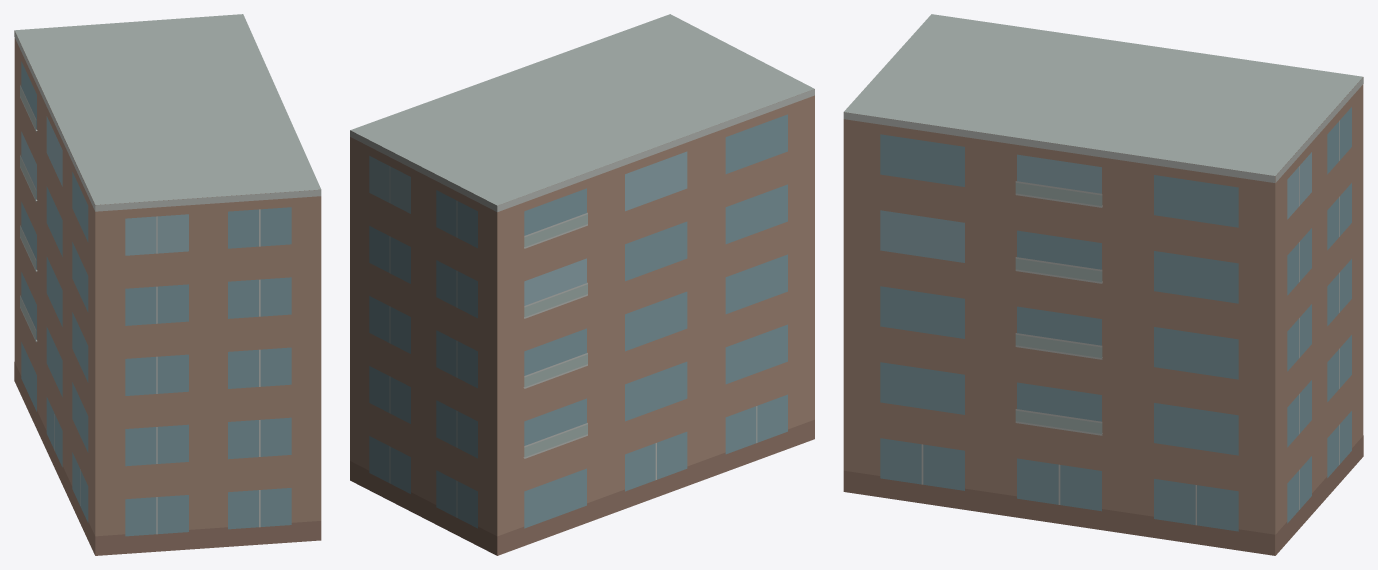
Rendered from survey-upis-33002001.glb.
The picture shows the model from 3 angles, left to right: view 1: azimuth 30°, elevation 25°; view 2: azimuth 150°, elevation 25°; view 3: azimuth 270°, elevation 25°; orthographic projection. The views are drawn at different scales.
Parts seen in each view (by area): view 1: survey-upis-33002001.tmp; view 2: survey-upis-33002001.tmp; view 3: survey-upis-33002001.tmp.
Boxes of the visible parts, x1,y1,x2,y2 form: survey-upis-33002001.tmp: [14, 14, 321, 555]; survey-upis-33002001.tmp: [350, 14, 814, 555]; survey-upis-33002001.tmp: [843, 14, 1363, 555].
Size of the model in its own units: 11.91 by 13 by 16.13.
